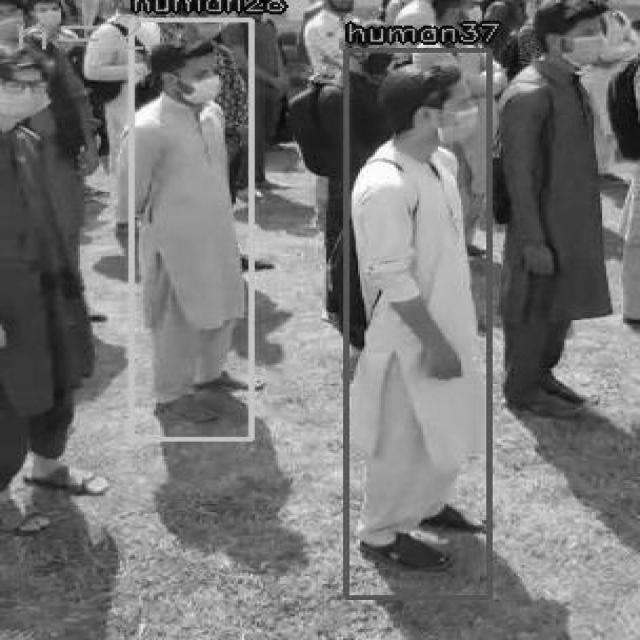person: (343, 48, 489, 597), (128, 18, 250, 438)
